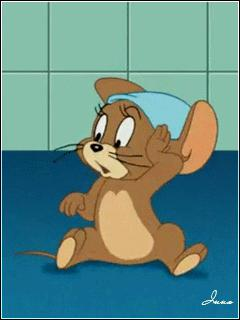jerry: (13, 76, 219, 278)
